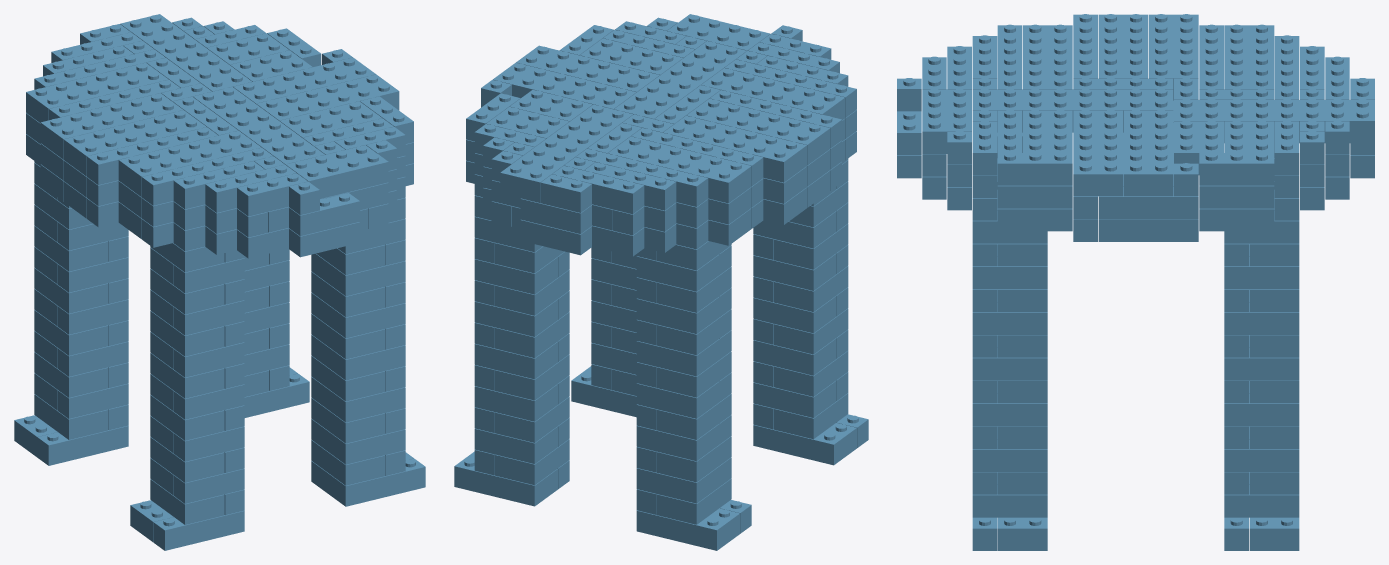
File: 224_table_L4.glb
The picture shows the model from 3 angles, left to right: view 1: azimuth 30°, elevation 25°; view 2: azimuth 150°, elevation 25°; view 3: azimuth 270°, elevation 25°; orthographic projection. The views are drawn at different scales.
Size of the model in its own units: 14.98 by 17.13 by 18.98.
